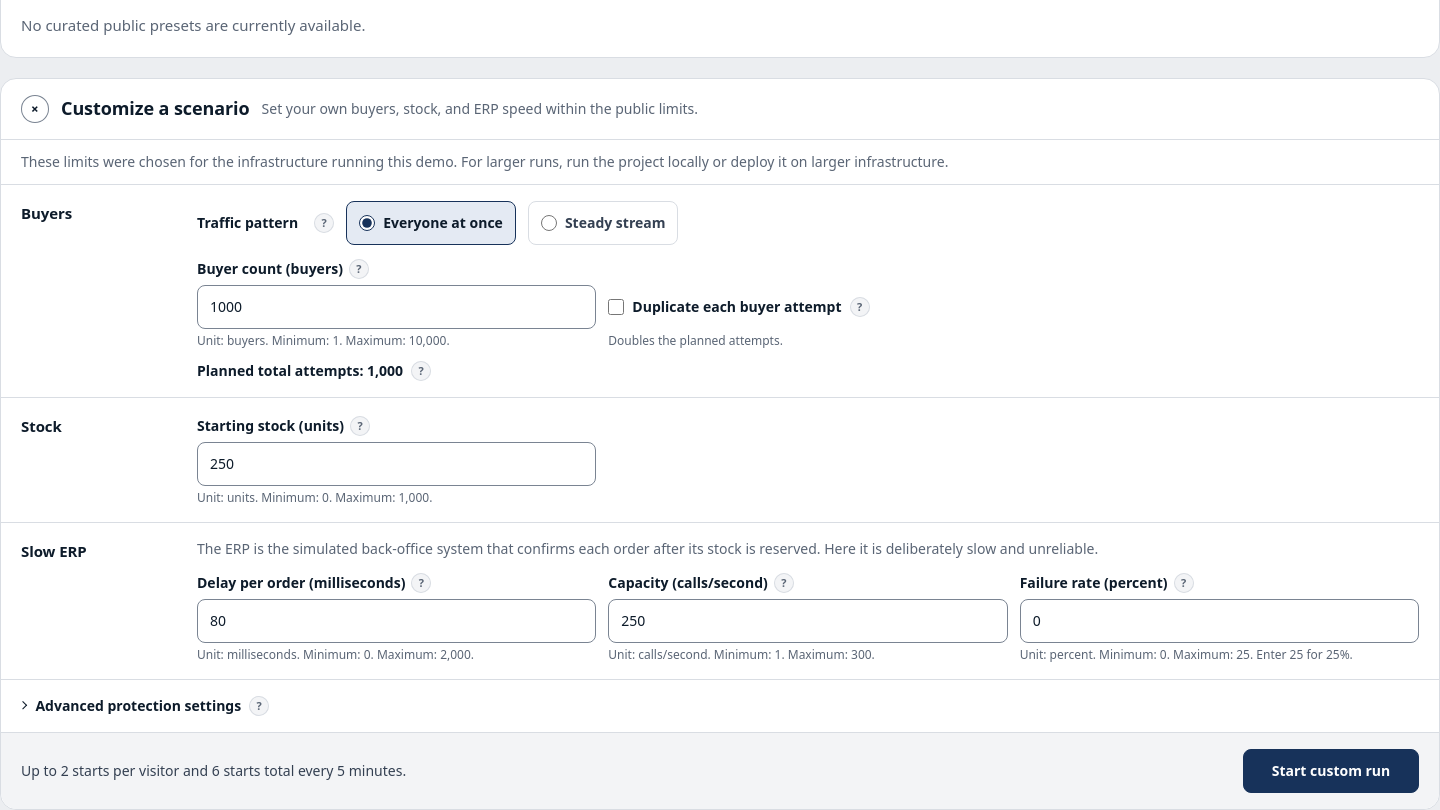
Test: shows the API's capacity refusal of a public custom run and blocks its start
(page scrolled)
Expected: the text "too heavy" is not shown
Click the button "Start custom run" at point(1331, 770), box [1243,748,1419,792]
(page scrolled)
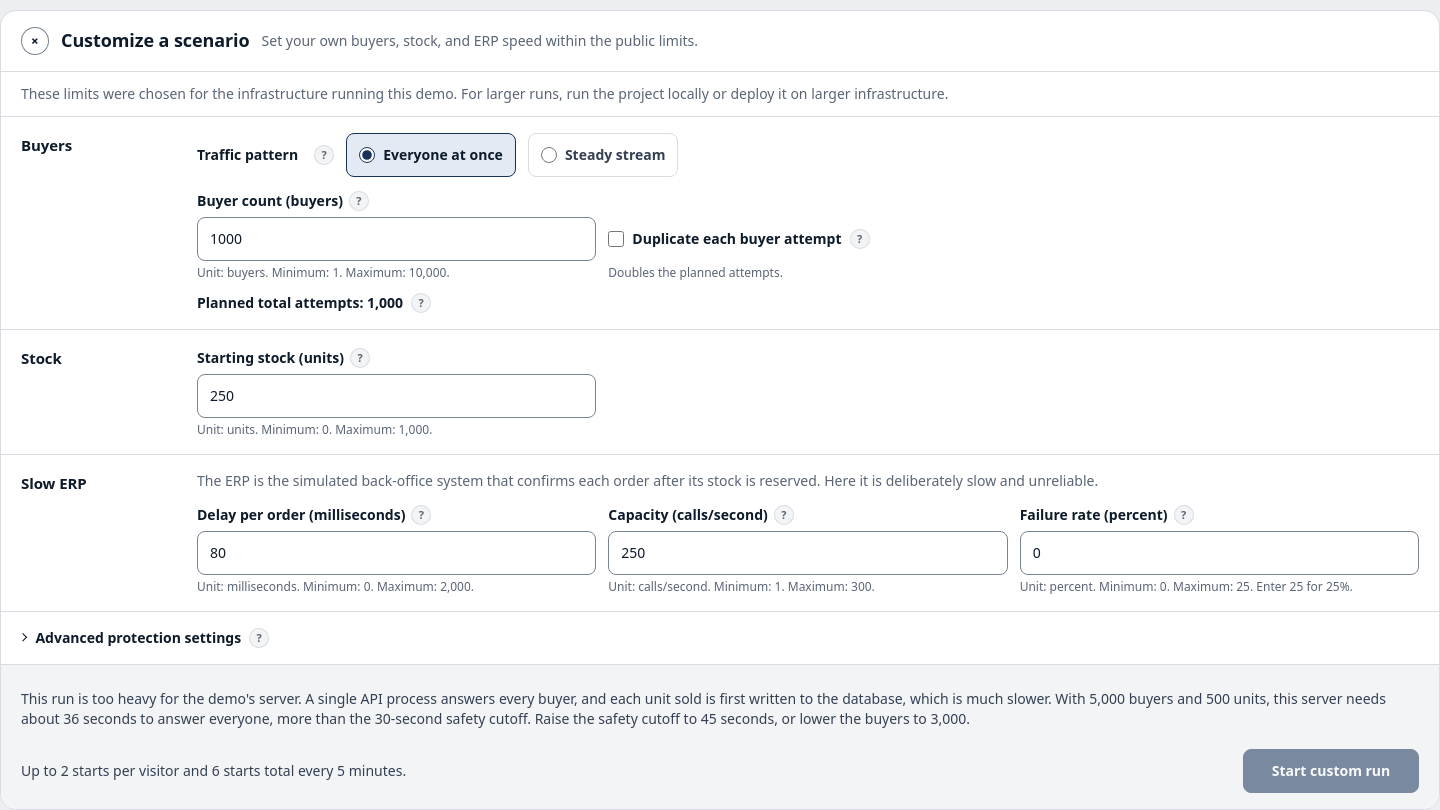
Result: the text "This run is too heavy for the demo's server." shows "With 5,000 buyers and 500 units, this server needs about 36 seconds to answer everyone, more than the 30-second safety cutoff. Raise the safety cutoff to 45 sec" at [21,688,1386,728]
Result: the button "Start custom run" is disabled at [1243,748,1419,792]
